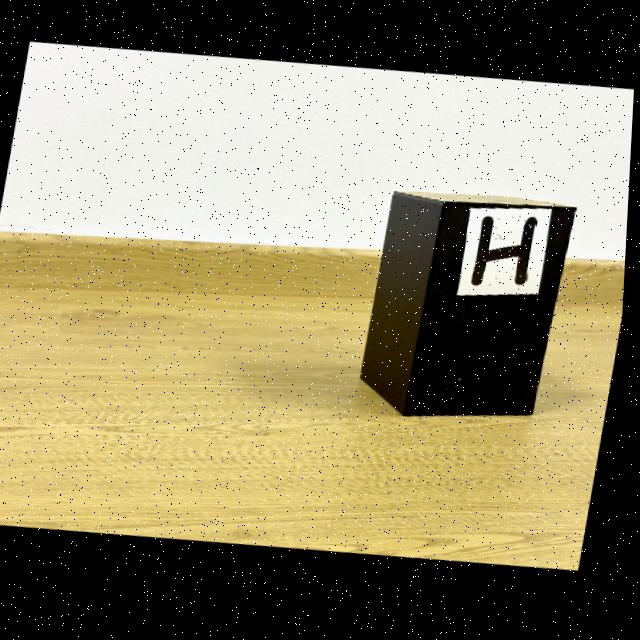H: (474, 221, 539, 291)
